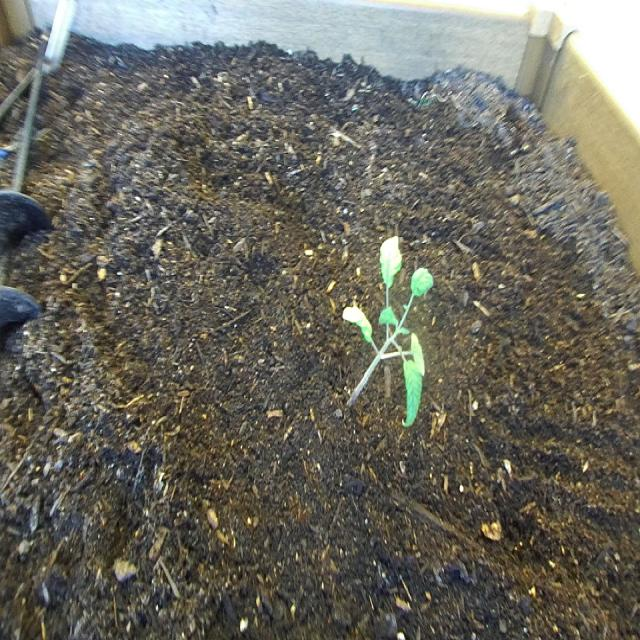Healthy: (333, 212, 442, 447)
